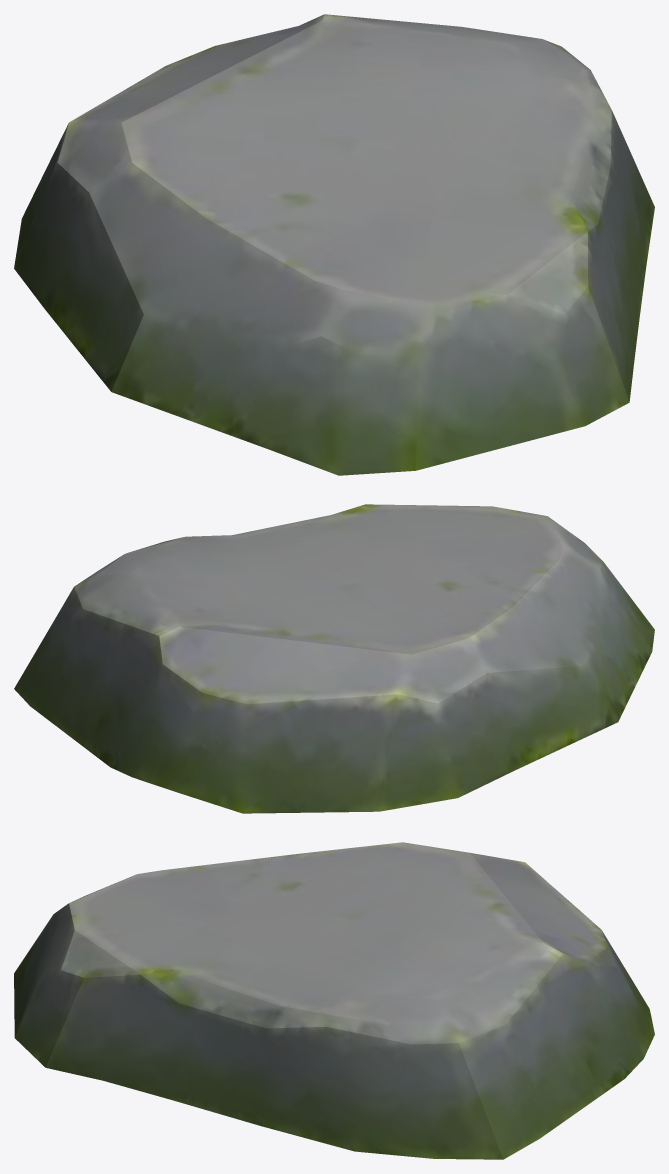
File: pebble-round-kamfq1ujuy-transformed.glb
3 views of the same model, one above another, from view 1: azimuth 30°, elevation 25°; view 2: azimuth 150°, elevation 25°; view 3: azimuth 270°, elevation 25° (orthographic). The views are drawn at different scales.
Visible parts, largest first — view 1: Pebble_Round_4; view 2: Pebble_Round_4; view 3: Pebble_Round_4.
Part boxes in pixels (left/top/right/bottom): Pebble_Round_4: left=14, top=14, right=654, bottom=475; Pebble_Round_4: left=14, top=504, right=654, bottom=813; Pebble_Round_4: left=14, top=842, right=654, bottom=1159.
Size of the model in its own units: 0.4063 by 0.0994 by 0.4524.
Materials: 1 (1 with a texture image).
